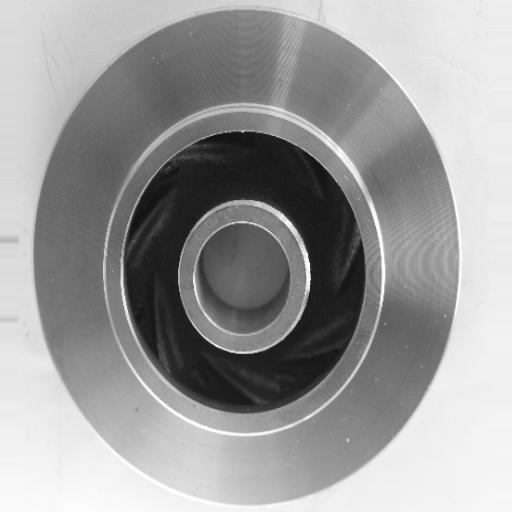polished_casting: (29, 9, 460, 507)
